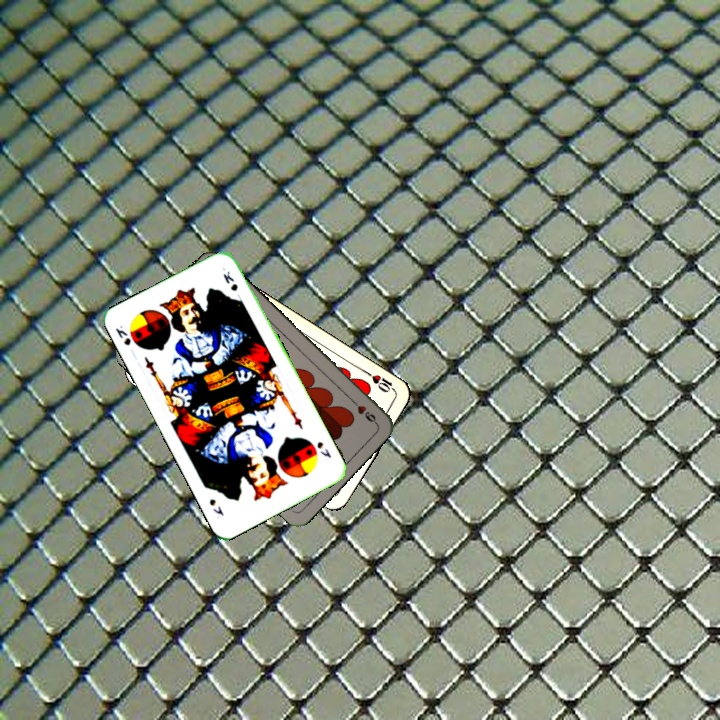H10: (362, 367, 398, 395)
H9: (346, 395, 379, 426)
SK: (111, 321, 134, 348), (313, 437, 334, 461)
